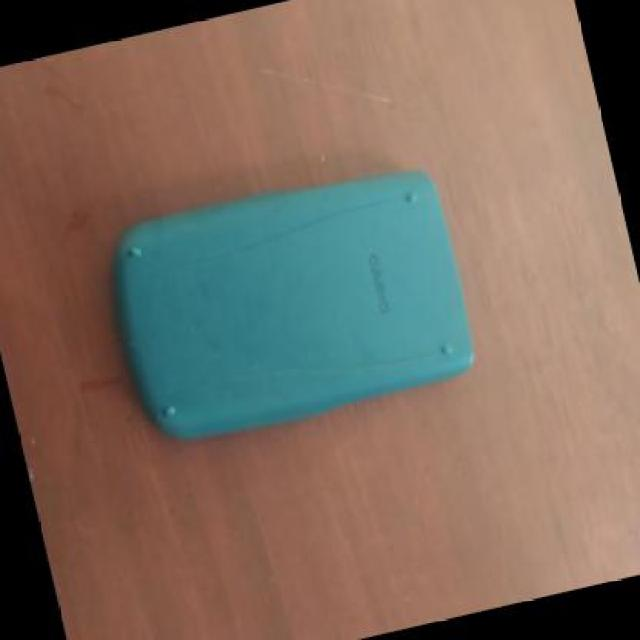Calculator: (95, 145, 493, 461)
